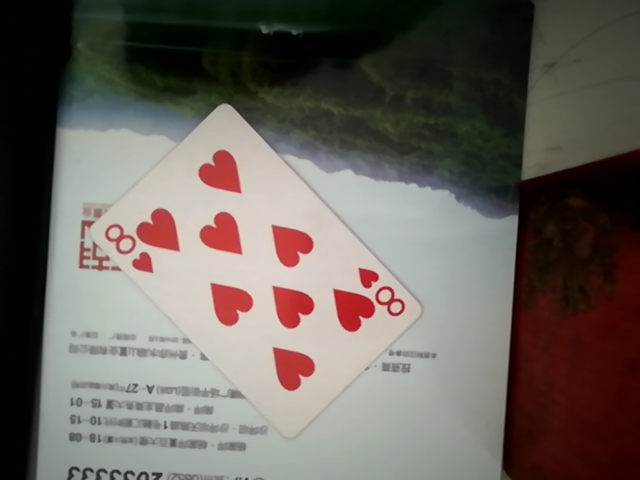hx 8: (64, 105, 427, 424)
